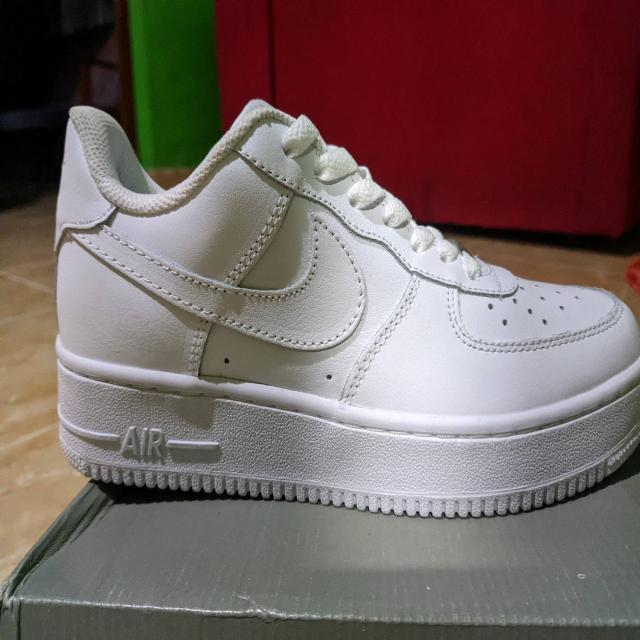nike fake air force: (52, 102, 640, 520)
